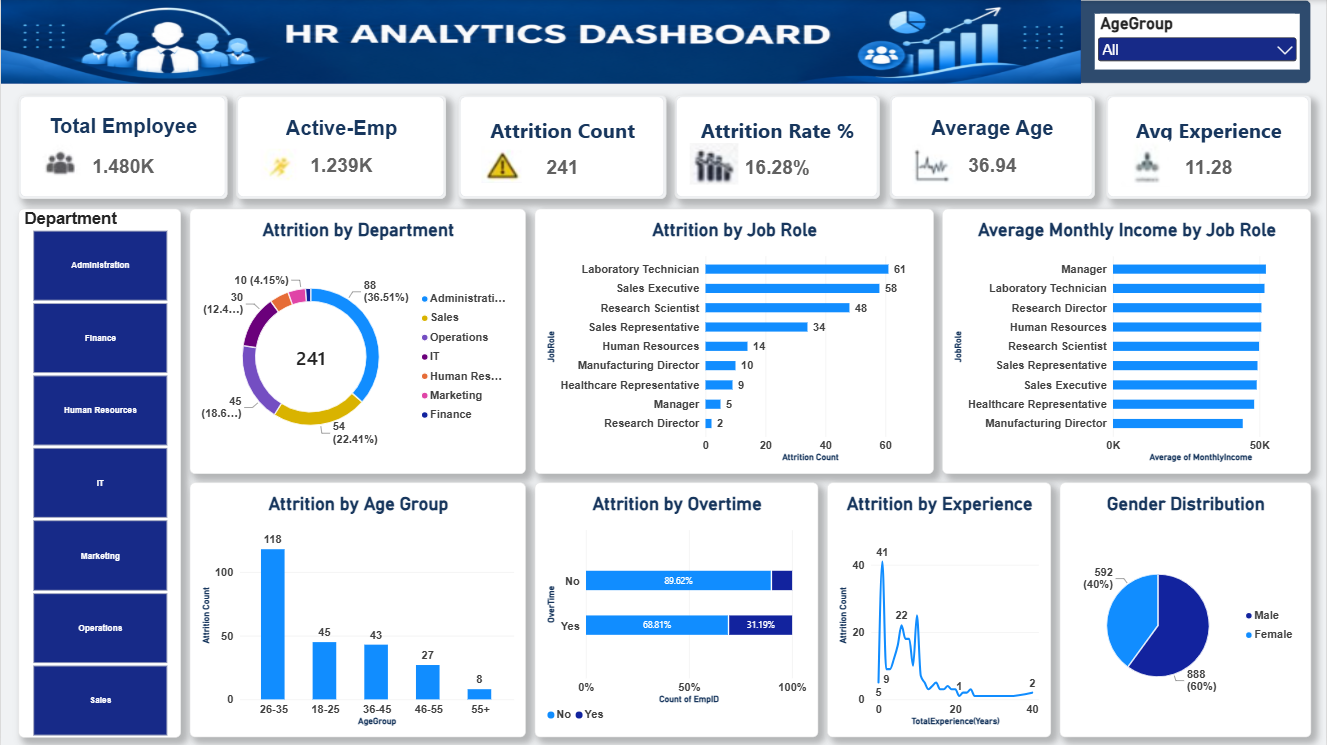

This screenshot's page, from the dashboard's own definition file:
{"tool":"powerbi","page":{"name":"Page 1","canvas":[1920,1080],"ordinal":0},"visuals":[{"type":"textbox","box":[25.7,0,1870.9,120.9],"z":0},{"type":"cardVisual","fields":{"Data":["HR_Analytics.Total Employee"]},"box":[25.3,137.5,302.2,150.2],"z":1000},{"type":"cardVisual","fields":{"Data":["HR_Analytics.Active-Emp"]},"box":[340.2,137.5,304,150.2],"z":2000},{"type":"cardVisual","fields":{"Data":["HR_Analytics.Attrition Count"]},"box":[661.5,137.4,300.4,150.2],"z":3000},{"type":"cardVisual","fields":{"Data":["HR_Analytics.Attrition Rate %"]},"box":[975.4,137.5,296.8,150.2],"z":4000},{"type":"cardVisual","fields":{"Data":["HR_Analytics.Average Age"]},"box":[1286.7,137.5,296.8,150.2],"z":5000},{"type":"cardVisual","fields":{"Data":["HR_Analytics.Avg Experience"]},"box":[1599.7,137.5,296.8,150.2],"z":6000},{"type":"image","box":[47.1,200.9,70.6,63.3],"z":7000},{"type":"image","box":[369.2,215.3,68.8,52.5],"z":8000},{"type":"image","box":[689.5,211.7,70.6,52.5],"z":9000},{"type":"image","box":[997.1,206.3,70.6,61.5],"z":10000},{"type":"image","box":[1310.2,206.3,77.8,61.5],"z":11000},{"type":"image","box":[1621.5,199.1,70.6,74.2],"z":12000},{"type":"slicer","fields":{"Values":["HR_Analytics.Department"]},"box":[25.3,302.2,235.3,765.5],"z":13000},{"type":"slicer","fields":{"Values":["HR_Analytics.AgeGroup"]},"box":[1583.2,20.2,296.9,80.6],"z":14000},{"type":"donutChart","title":"Attrition by Department","fields":{"Category":["HR_Analytics.Department"],"Y":["HR_Analytics.Attrition Count"]},"box":[273.3,302.2,486.8,383.6],"z":15000},{"type":"barChart","title":"Attrition by Job Role","fields":{"Y":["HR_Analytics.Attrition Count"],"Category":["HR_Analytics.JobRole"]},"box":[772.7,302.2,577.3,383.6],"z":16000},{"type":"barChart","title":"Average Monthly Income by Job Role","fields":{"Category":["HR_Analytics.JobRole"],"Y":["Avg(HR_Analytics.MonthlyIncome)"]},"box":[1362.7,302.2,533.8,383.6],"z":17000},{"type":"clusteredColumnChart","title":"Attrition by Age Group","fields":{"Category":["HR_Analytics.AgeGroup"],"Y":["HR_Analytics.Attrition Count"]},"box":[273.3,698.5,486.8,369.2],"z":18000},{"type":"hundredPercentStackedBarChart","title":"Attrition by Overtime","fields":{"Category":["HR_Analytics.OverTime"],"Y":["CountNonNull(HR_Analytics.EmpID)"],"Series":["HR_Analytics.Attrition"]},"box":[772.7,698.5,410.8,369.2],"z":19000},{"type":"lineChart","title":"Attrition by Experience","fields":{"Category":["HR_Analytics.TotalExperience(Years)"],"Y":["HR_Analytics.Attrition Count"]},"box":[1196.2,698.5,323.9,369.2],"z":20000},{"type":"pieChart","title":"Gender Distribution","fields":{"Category":["HR_Analytics.Gender"],"Y":["CountNonNull(HR_Analytics.EmpID)"]},"box":[1532.8,698.5,363.7,369.2],"z":21000},{"type":"image","box":[0,0,1563.1,120.9],"z":22000}]}

Visuals, with their boxes in screenshot pixels (x1, y1, x2, y2), scaled from the page's 1920x1080 canvas onto the 1327x745 screenshot:
textbox: (x1=18, y1=0, x2=1311, y2=83)
cardVisual - HR_Analytics.Total Employee: (x1=17, y1=95, x2=226, y2=198)
cardVisual - HR_Analytics.Active-Emp: (x1=235, y1=95, x2=445, y2=198)
cardVisual - HR_Analytics.Attrition Count: (x1=457, y1=95, x2=665, y2=198)
cardVisual - HR_Analytics.Attrition Rate %: (x1=674, y1=95, x2=879, y2=198)
cardVisual - HR_Analytics.Average Age: (x1=889, y1=95, x2=1094, y2=198)
cardVisual - HR_Analytics.Avg Experience: (x1=1106, y1=95, x2=1311, y2=198)
image: (x1=33, y1=139, x2=81, y2=182)
image: (x1=255, y1=149, x2=303, y2=185)
image: (x1=477, y1=146, x2=525, y2=182)
image: (x1=689, y1=142, x2=738, y2=185)
image: (x1=906, y1=142, x2=959, y2=185)
image: (x1=1121, y1=137, x2=1169, y2=189)
slicer - HR_Analytics.Department: (x1=17, y1=208, x2=180, y2=737)
slicer - HR_Analytics.AgeGroup: (x1=1094, y1=14, x2=1299, y2=70)
"Attrition by Department" donutChart: (x1=189, y1=208, x2=525, y2=473)
"Attrition by Job Role" barChart: (x1=534, y1=208, x2=933, y2=473)
"Average Monthly Income by Job Role" barChart: (x1=942, y1=208, x2=1311, y2=473)
"Attrition by Age Group" clusteredColumnChart: (x1=189, y1=482, x2=525, y2=737)
"Attrition by Overtime" hundredPercentStackedBarChart: (x1=534, y1=482, x2=818, y2=737)
"Attrition by Experience" lineChart: (x1=827, y1=482, x2=1051, y2=737)
"Gender Distribution" pieChart: (x1=1059, y1=482, x2=1311, y2=737)
image: (x1=0, y1=0, x2=1080, y2=83)
